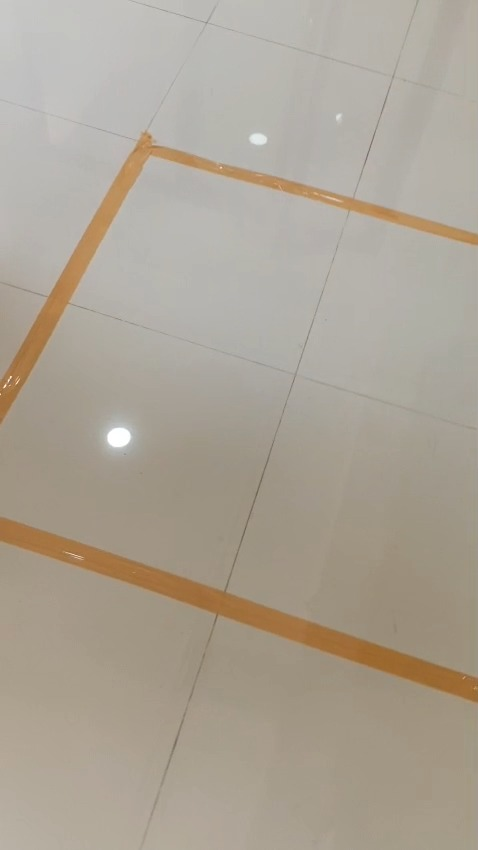floor marking: (0, 133, 477, 424), (0, 518, 477, 703)
